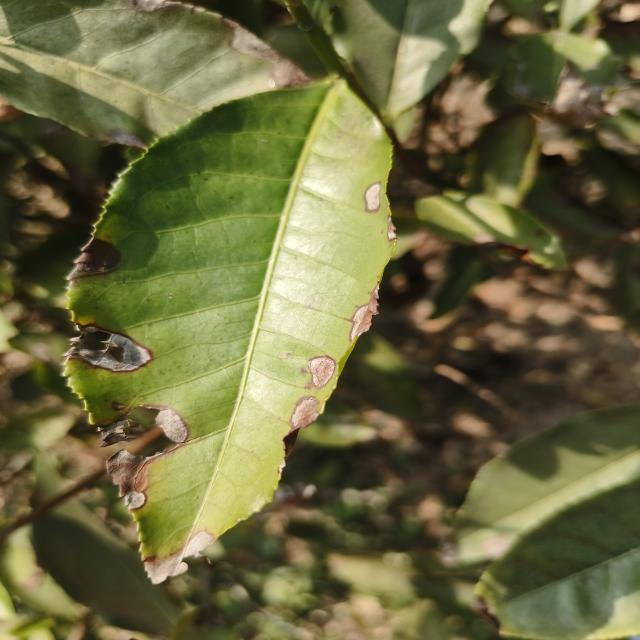Leaf: (68, 81, 395, 582), (0, 0, 307, 148), (454, 404, 640, 563), (476, 480, 640, 640), (315, 0, 490, 128), (32, 499, 178, 635), (414, 193, 566, 268), (471, 112, 539, 208)
